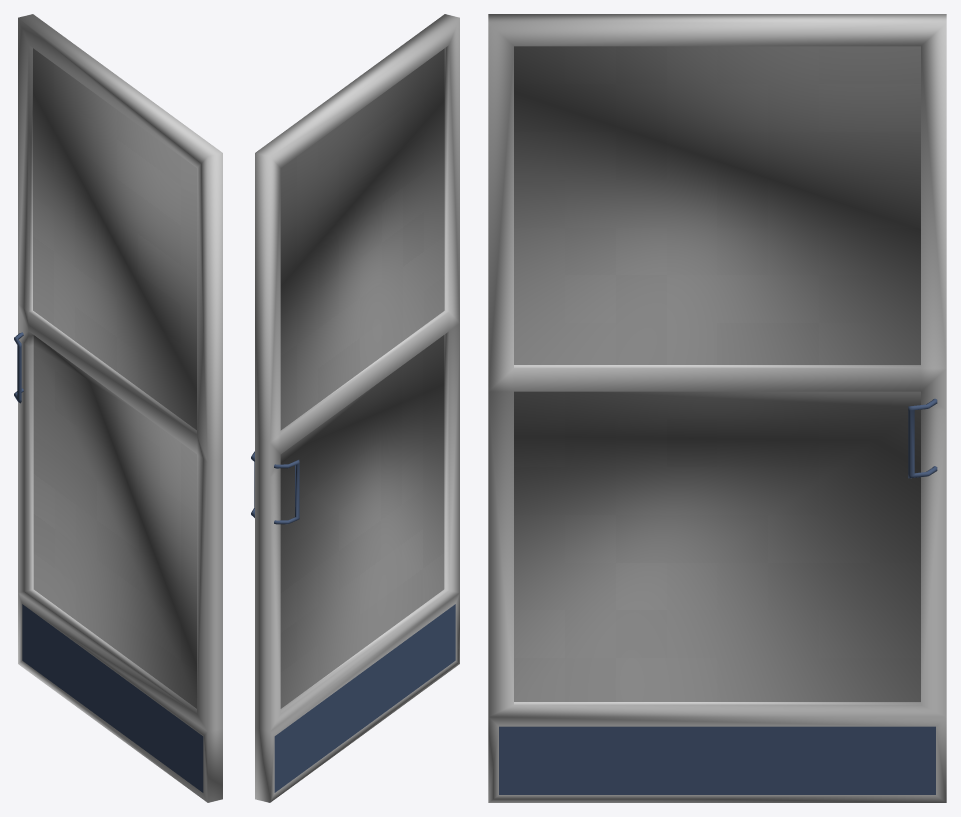
File: SW_corridor__R_lobby_R_Aula_Ovi_2_Ikkunaav_002.FBX
3 renders of one model, left to right at view 1: azimuth 30°, elevation 25°; view 2: azimuth 150°, elevation 25°; view 3: azimuth 270°, elevation 25°, orthographic. The views are drawn at different scales.
Parts seen in each view (by area): view 1: SW_corridor__R_lobby_R_Aula_Ovi_2_Ikkunaav_002; view 2: SW_corridor__R_lobby_R_Aula_Ovi_2_Ikkunaav_002; view 3: SW_corridor__R_lobby_R_Aula_Ovi_2_Ikkunaav_002.
Part boxes in pixels (x1,y1,x2,y2): SW_corridor__R_lobby_R_Aula_Ovi_2_Ikkunaav_002: (14,14,222,802); SW_corridor__R_lobby_R_Aula_Ovi_2_Ikkunaav_002: (251,14,459,802); SW_corridor__R_lobby_R_Aula_Ovi_2_Ikkunaav_002: (488,14,946,802).
Size of the model in its own units: 14.61 by 109 by 204.
